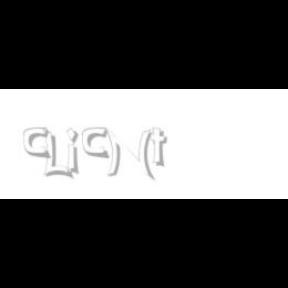L: (42, 128, 70, 180)
N: (104, 128, 152, 180)
c: (24, 128, 53, 160), (82, 128, 110, 160)
i: (66, 128, 82, 176)
t: (150, 128, 172, 168)
